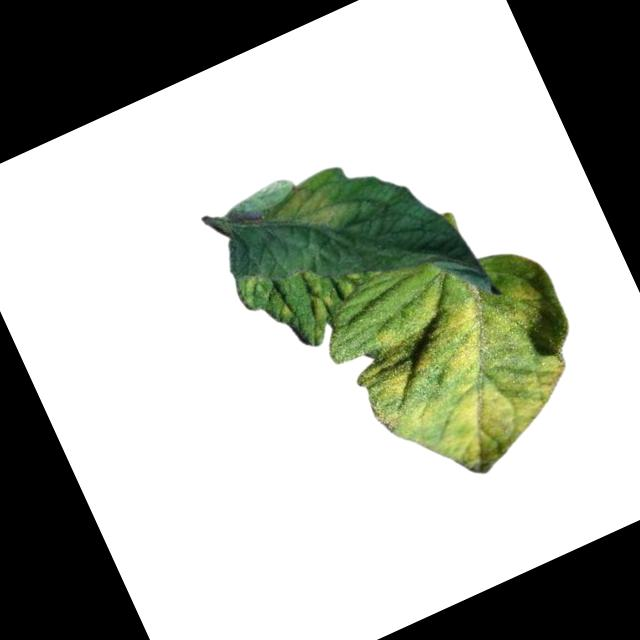Leaf_Mold: (332, 244, 611, 506), (260, 164, 360, 256), (293, 264, 342, 326), (230, 268, 276, 311)
